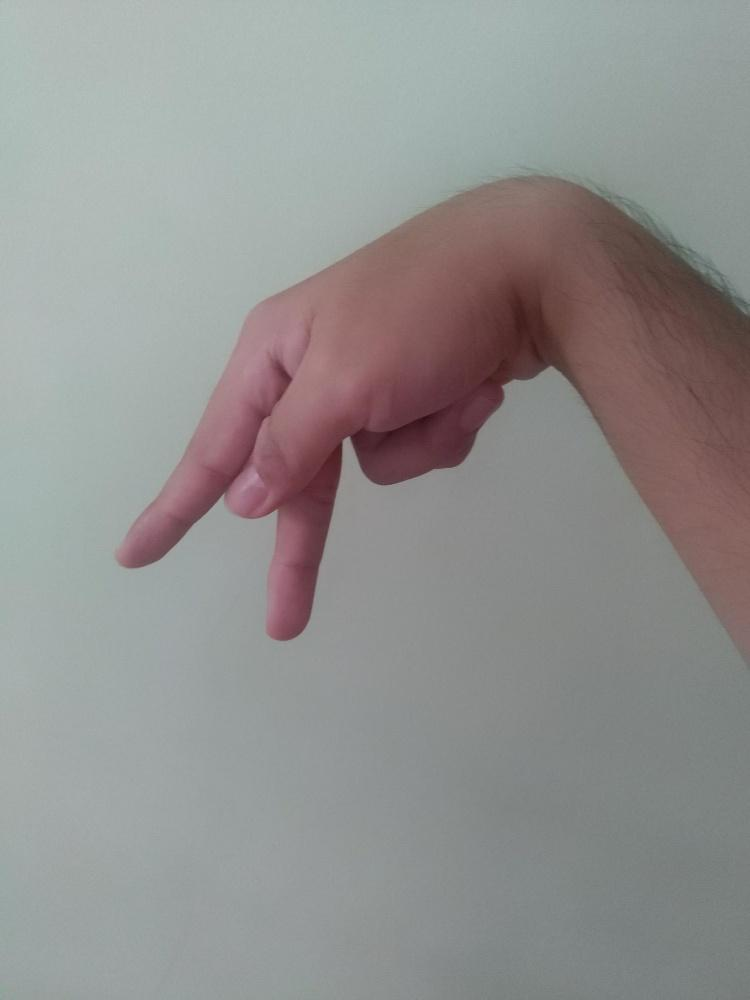p: (111, 171, 561, 642)
